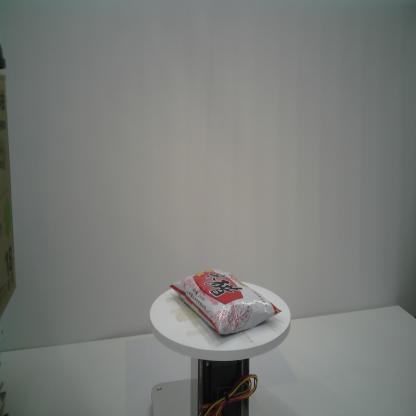Seasoner: (167, 265, 283, 337)
